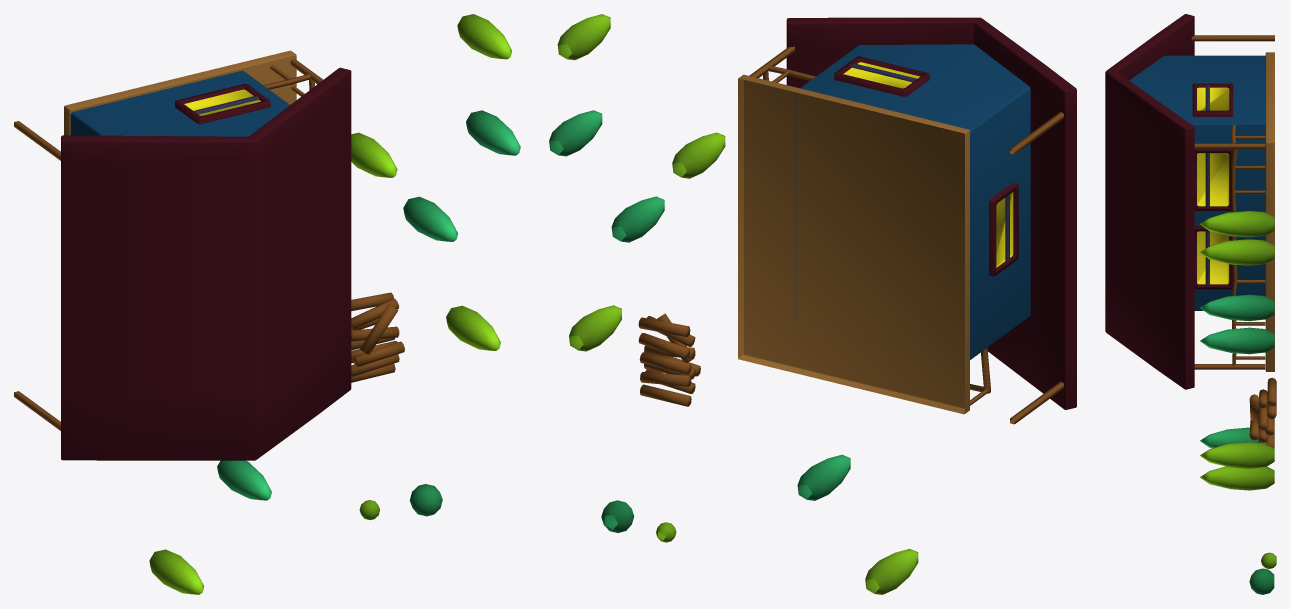
File: Simple_House_02_03.fbx
The picture shows the model from 3 angles, left to right: view 1: azimuth 30°, elevation 25°; view 2: azimuth 150°, elevation 25°; view 3: azimuth 270°, elevation 25°; orthographic projection. The views are drawn at different scales.
Parts seen in each view (by area): view 1: Simple_House_02_03; view 2: Simple_House_02_03; view 3: Simple_House_02_03.
Boxes of the visible parts, left/top/right/bottom form: Simple_House_02_03: left=14, top=14, right=520, bottom=594; Simple_House_02_03: left=549, top=14, right=1076, bottom=594; Simple_House_02_03: left=1105, top=14, right=1276, bottom=594.
Bounding box in the file's own units: 183 × 186 × 69.37.
